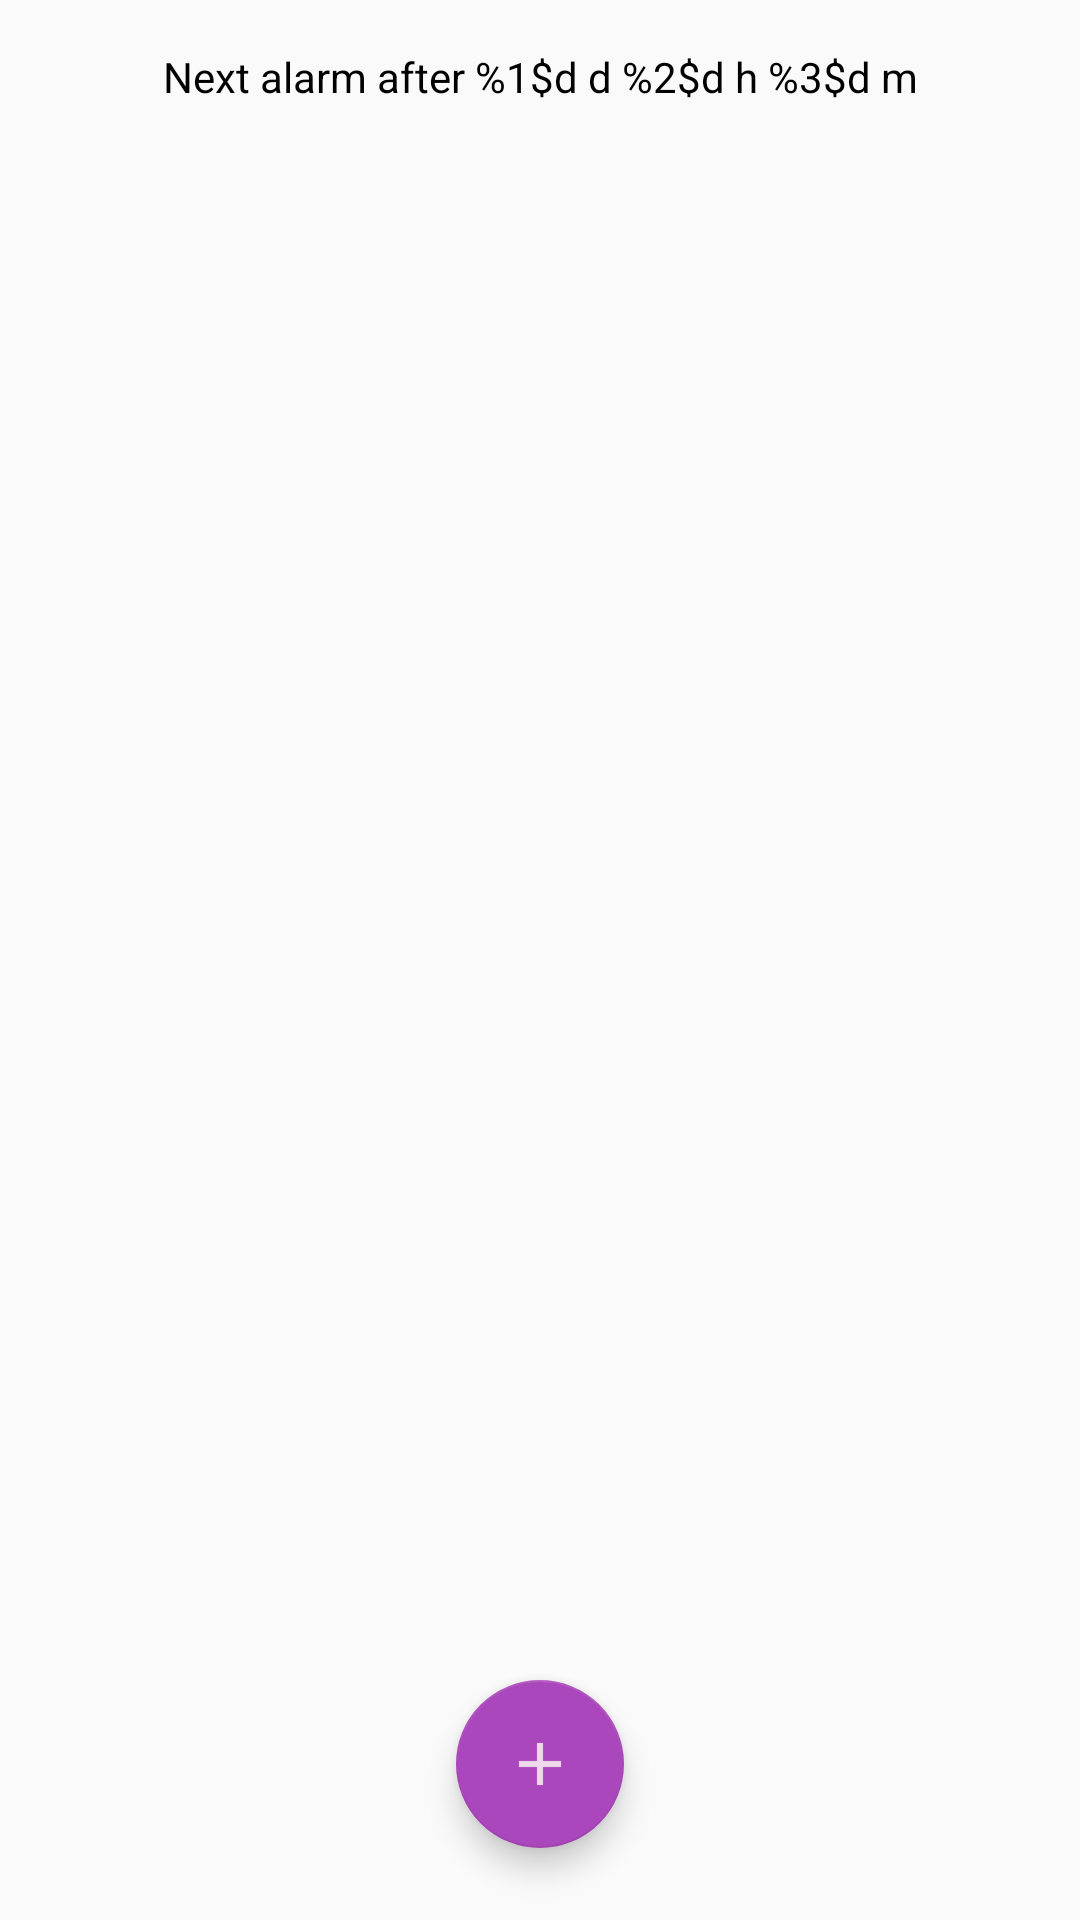

Screen size 1080*1920. Icon name, then its center in pixels as point (x, y):
add fab: point (540, 1764)
